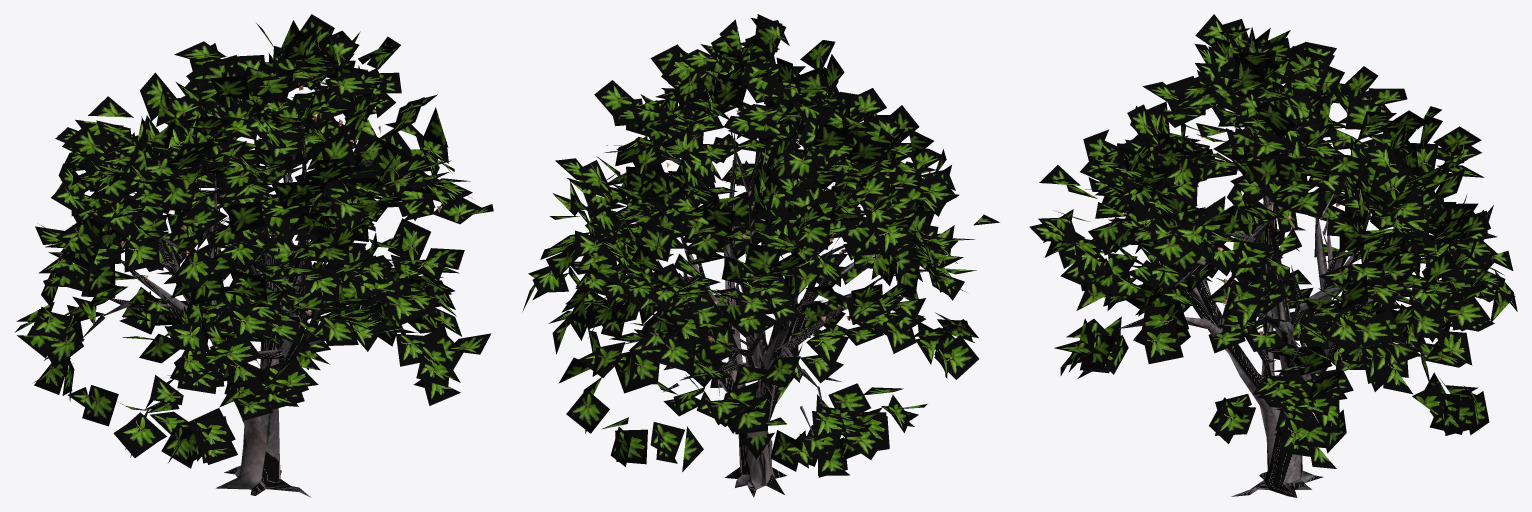
The model's file is tr_mango_lo.glb.
The picture shows the model from 3 angles, left to right: view 1: azimuth 30°, elevation 25°; view 2: azimuth 150°, elevation 25°; view 3: azimuth 270°, elevation 25°; orthographic projection. The views are drawn at different scales.
Visible parts, largest first — view 1: leaves, tree; view 2: leaves, tree; view 3: leaves, tree.
Boxes of the visible parts, left/top/right/bottom form: leaves: left=14, top=14, right=493, bottom=468; tree: left=64, top=74, right=442, bottom=497; leaves: left=522, top=14, right=999, bottom=477; tree: left=562, top=110, right=882, bottom=497; leaves: left=1029, top=14, right=1517, bottom=468; tree: left=1118, top=129, right=1444, bottom=497.
Size of the model in its own units: 6.35 by 6.8 by 6.46.
Materials: 3 (3 with a texture image).
